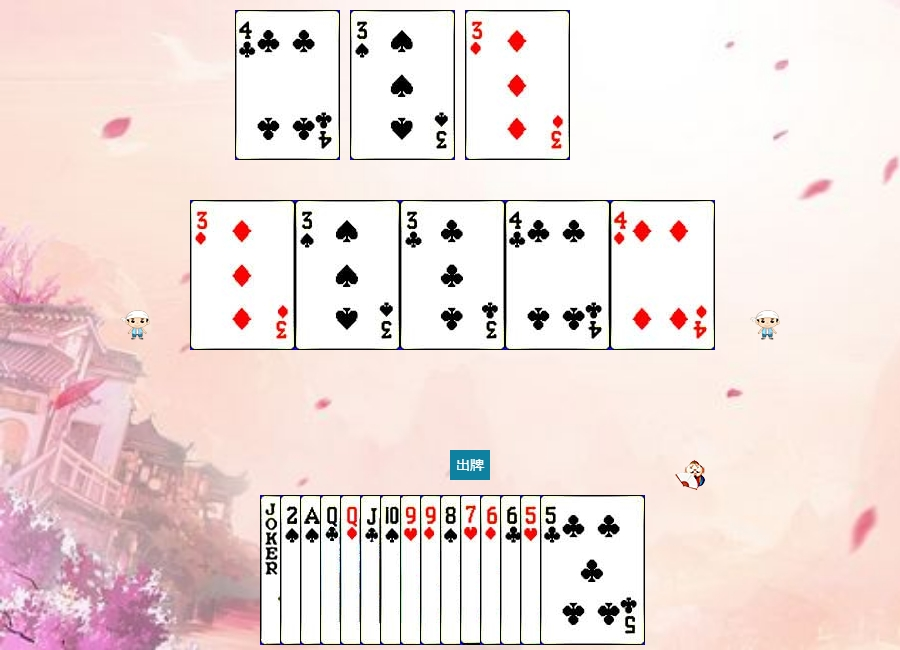10~4: (380, 495, 485, 645)
11~2: (360, 495, 465, 645)
12~1: (340, 495, 445, 645)
12~2: (320, 495, 425, 645)
14~4: (300, 495, 405, 645)
15~4: (280, 495, 385, 645)
17~3: (260, 495, 365, 645)
3~1: (465, 10, 570, 160), (190, 200, 295, 350)
3~2: (400, 200, 505, 350)
3~4: (350, 10, 455, 160), (295, 200, 400, 350)
4~1: (610, 200, 715, 350)
4~2: (235, 10, 340, 160), (505, 200, 610, 350)
5~2: (540, 495, 645, 645)
5~3: (520, 495, 625, 645)
6~1: (480, 495, 585, 645)
6~2: (500, 495, 605, 645)
7~3: (460, 495, 565, 645)
8~4: (440, 495, 545, 645)
9~1: (420, 495, 525, 645)
9~3: (400, 495, 505, 645)
